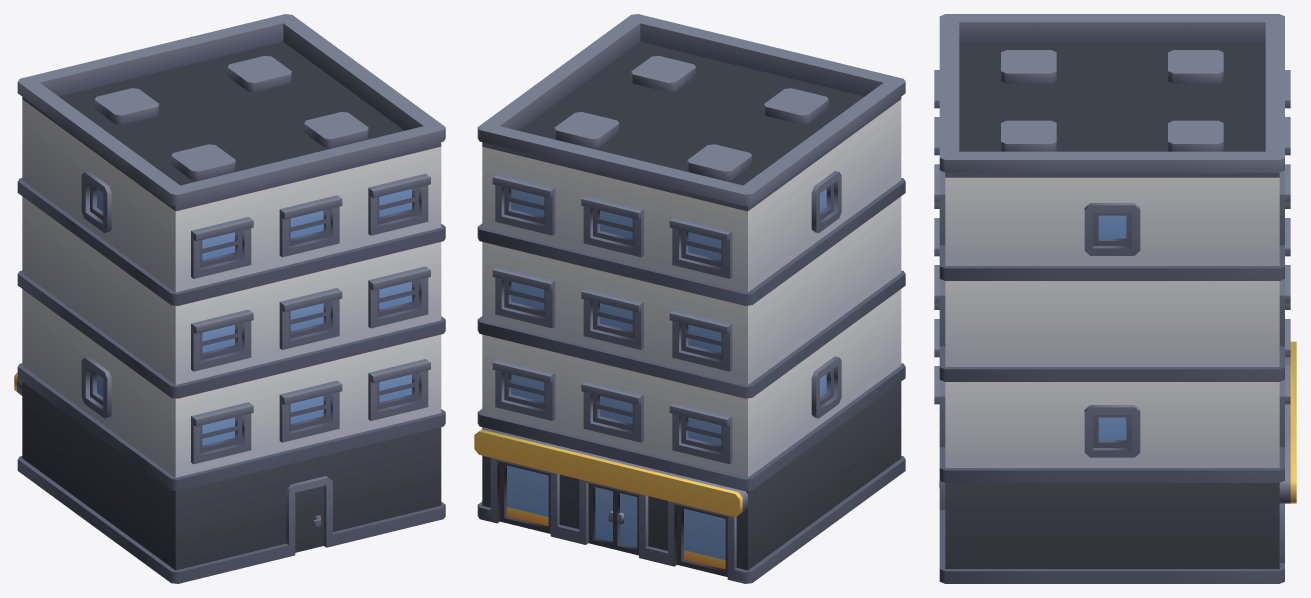
Rendered from building-i.glb.
The picture shows the model from 3 angles, left to right: view 1: azimuth 30°, elevation 25°; view 2: azimuth 150°, elevation 25°; view 3: azimuth 270°, elevation 25°; orthographic projection. The views are drawn at different scales.
Visible parts, largest first — view 1: building-i; view 2: building-i; view 3: building-i.
Part boxes in pixels (bbox=[...]): building-i: bbox=[14, 14, 445, 583]; building-i: bbox=[474, 14, 905, 583]; building-i: bbox=[934, 14, 1296, 583].
Bounding box in the file's own units: 1.24 × 1.68 × 1.3.
1 material, 1 textured.
